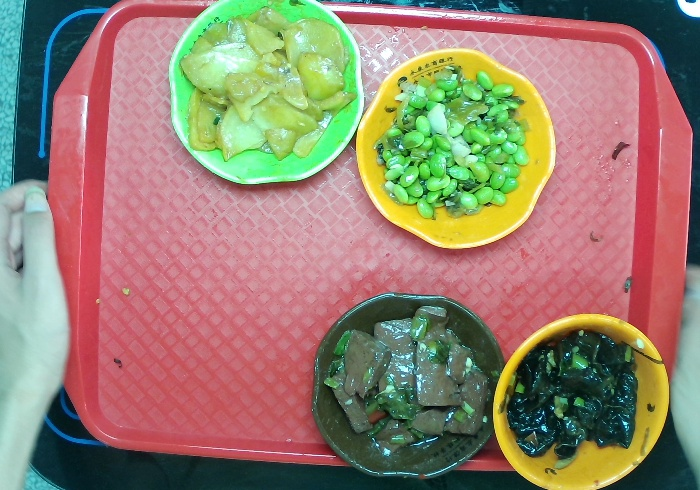YKMZ-Ju_Se_Ao_Bian_Wan: (351, 44, 558, 252)
YKMZ-Ju_Se_Yuan_Wan: (491, 311, 672, 490)
YKMZ-Ka_Fei_Ao_Bian_Wan: (310, 289, 507, 480)
YKMZ-Lv_Se_Ao_Bian_Wan: (164, 1, 366, 187)
